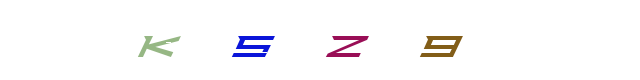9: (361, 0, 441, 80)
K: (149, 0, 229, 80)
S: (212, 0, 292, 80)
Z: (280, 0, 360, 80)
